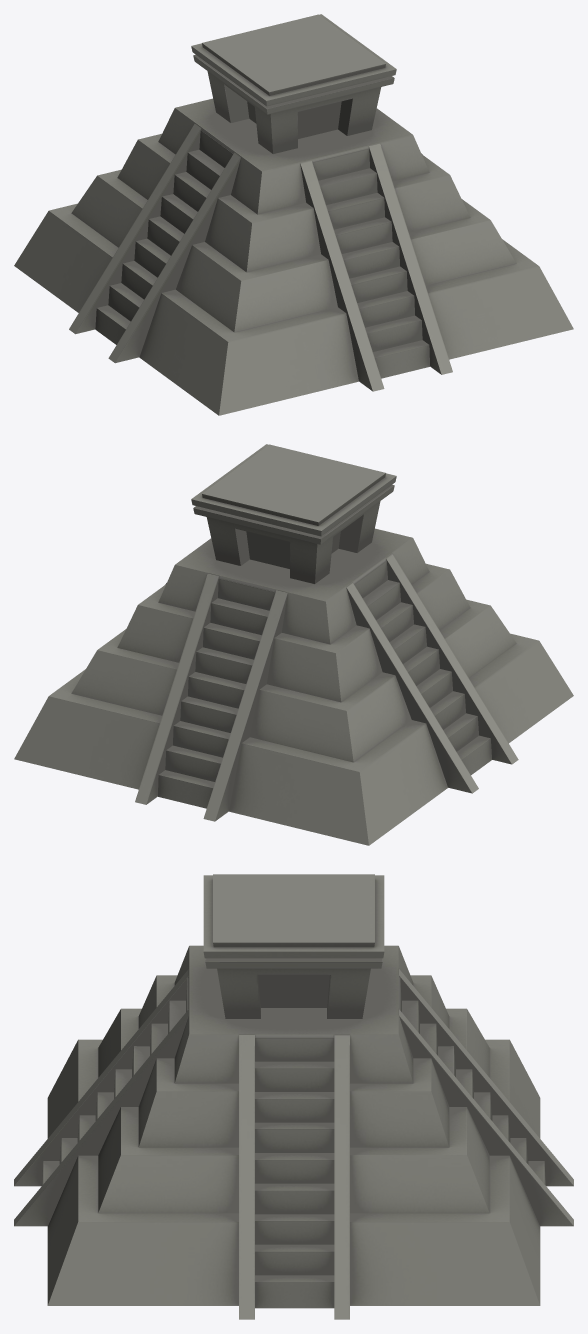
The model's file is chichen_itza.glb.
3 renders of one model, top to bottom at view 1: azimuth 30°, elevation 25°; view 2: azimuth 150°, elevation 25°; view 3: azimuth 270°, elevation 25°, orthographic. The views are drawn at different scales.
Parts seen in each view (by area): view 1: step pyramid; view 2: step pyramid; view 3: step pyramid.
Boxes of the visible parts, x1,y1,x2,y2 form: step pyramid: (14,14,573,415); step pyramid: (14,444,573,845); step pyramid: (14,874,573,1319).
Size of the model in its own units: 0.0553 by 0.0319 by 0.0553.
1 material, 1 textured.
